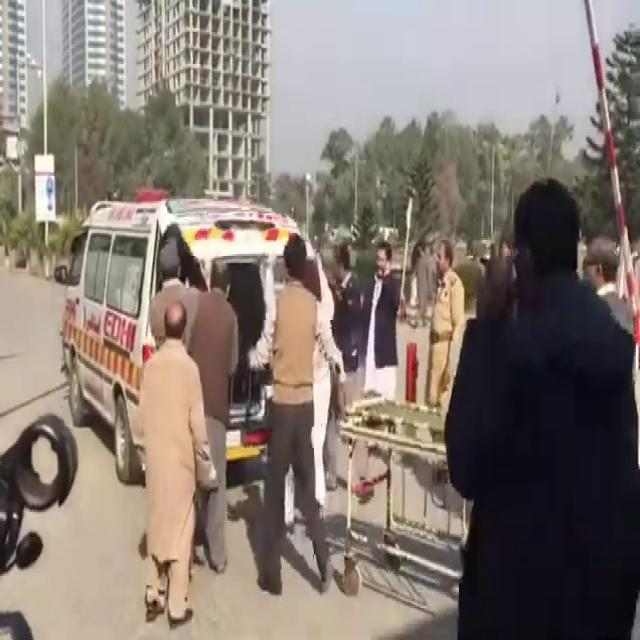ambulance: (53, 212, 321, 488)
